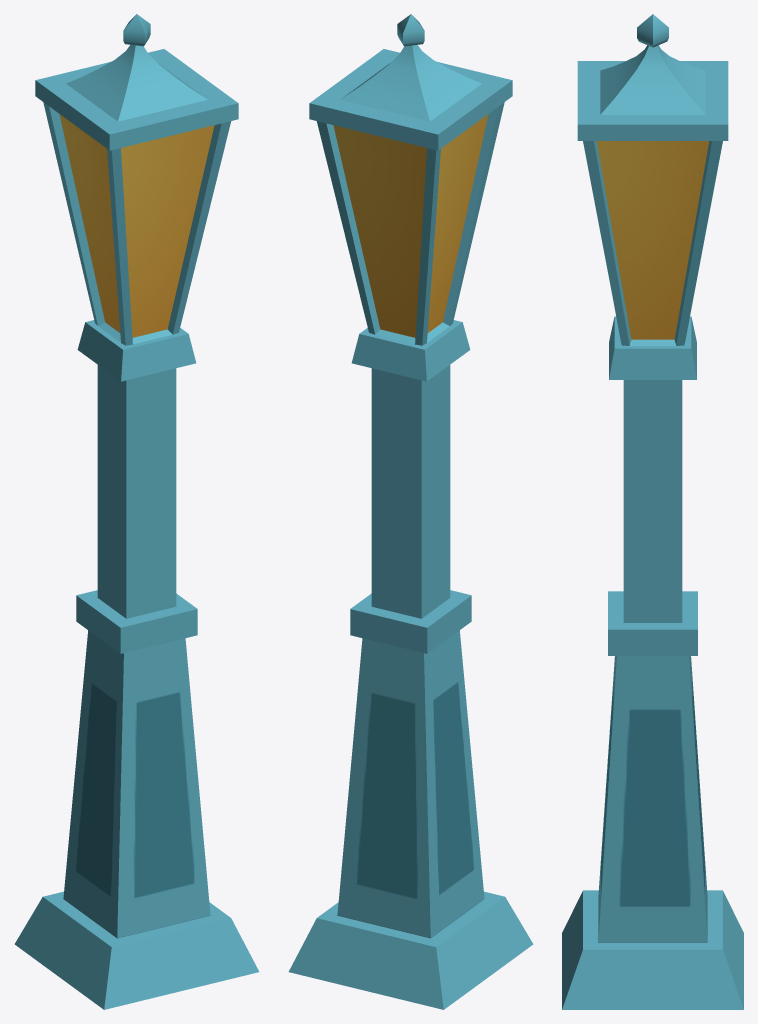
File: lamppost02.fbx
3 renders of one model, left to right at view 1: azimuth 30°, elevation 25°; view 2: azimuth 150°, elevation 25°; view 3: azimuth 270°, elevation 25°, orthographic.
Parts seen in each view (by area): view 1: lamppost02; view 2: lamppost02; view 3: lamppost02.
Boxes of the visible parts, <box> form: lamppost02: <box>14,14,259,1009</box>; lamppost02: <box>288,14,533,1009</box>; lamppost02: <box>562,14,743,1009</box>.
Size of the model in its own units: 63.76 by 370 by 63.76.
